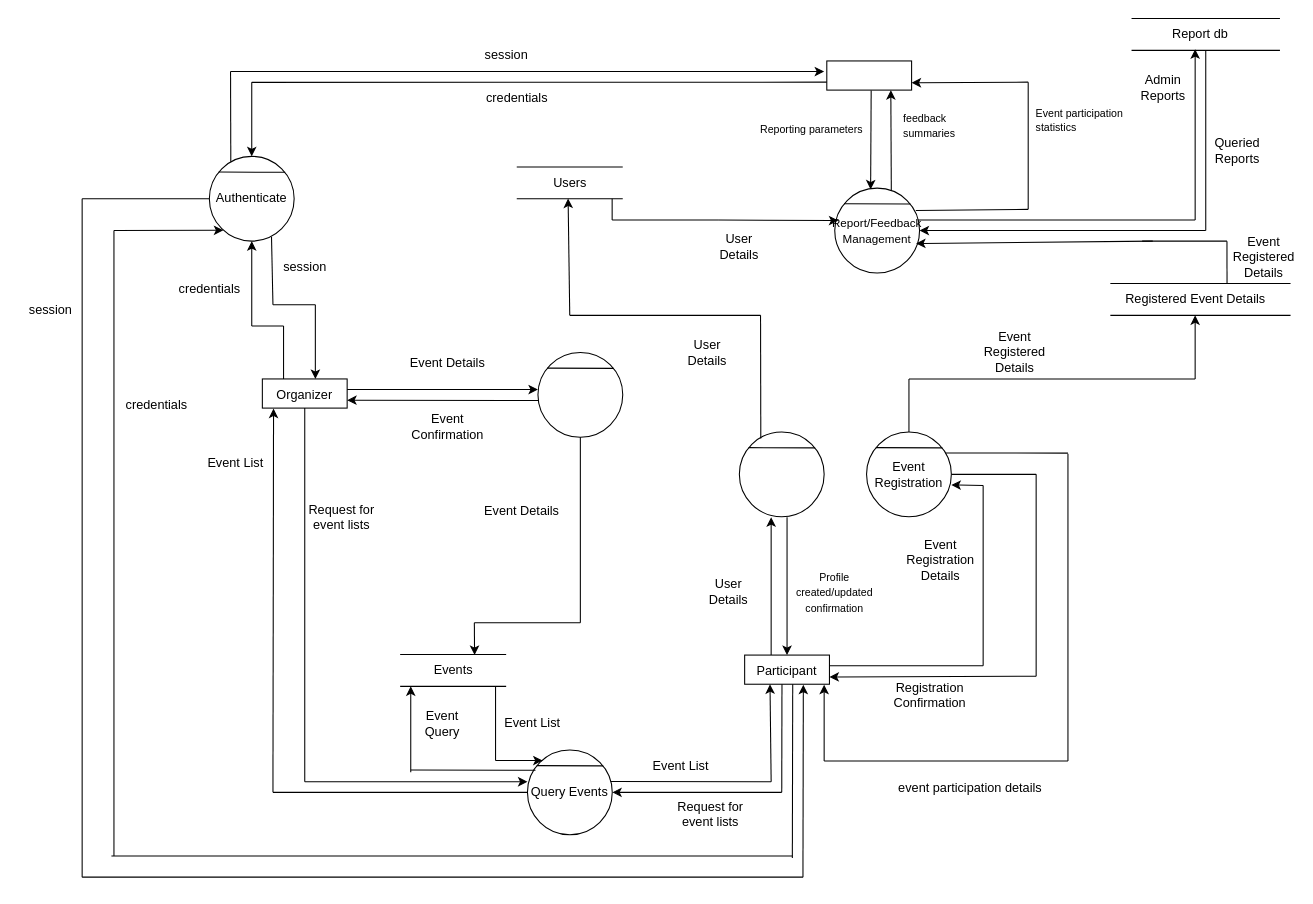
Image size: 1313x904. Some labels were removed from this diagram. The centre of each missing label's shape, as x and y in pixels:
"Admin" goes at point (869, 75).
"Event Creation" goes at point (580, 394).
"User Profile Management" goes at point (781, 474).
